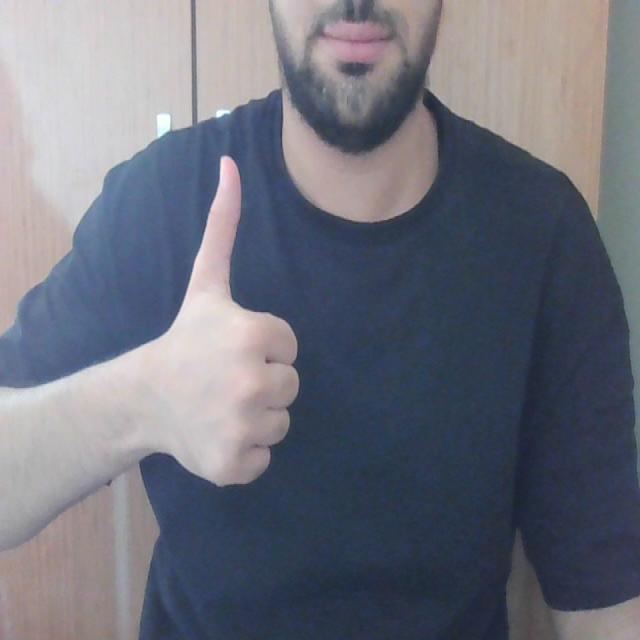Tamam: (146, 146, 304, 502)
